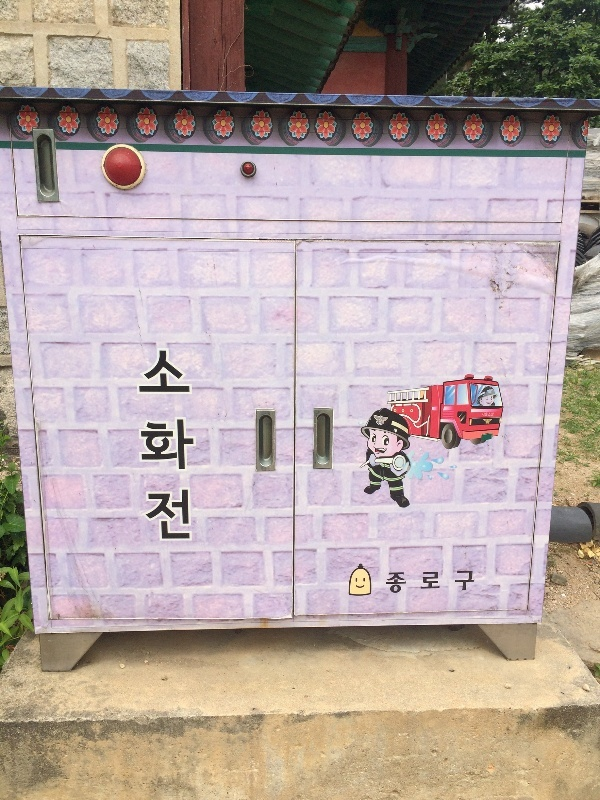text: (145, 347, 160, 542), (161, 347, 176, 542), (177, 347, 192, 542), (135, 347, 144, 542), (193, 347, 199, 542), (385, 570, 400, 594), (401, 570, 416, 594), (417, 570, 432, 594), (433, 570, 448, 594), (449, 570, 464, 594), (465, 570, 474, 594), (483, 412, 496, 417), (488, 412, 496, 417)
